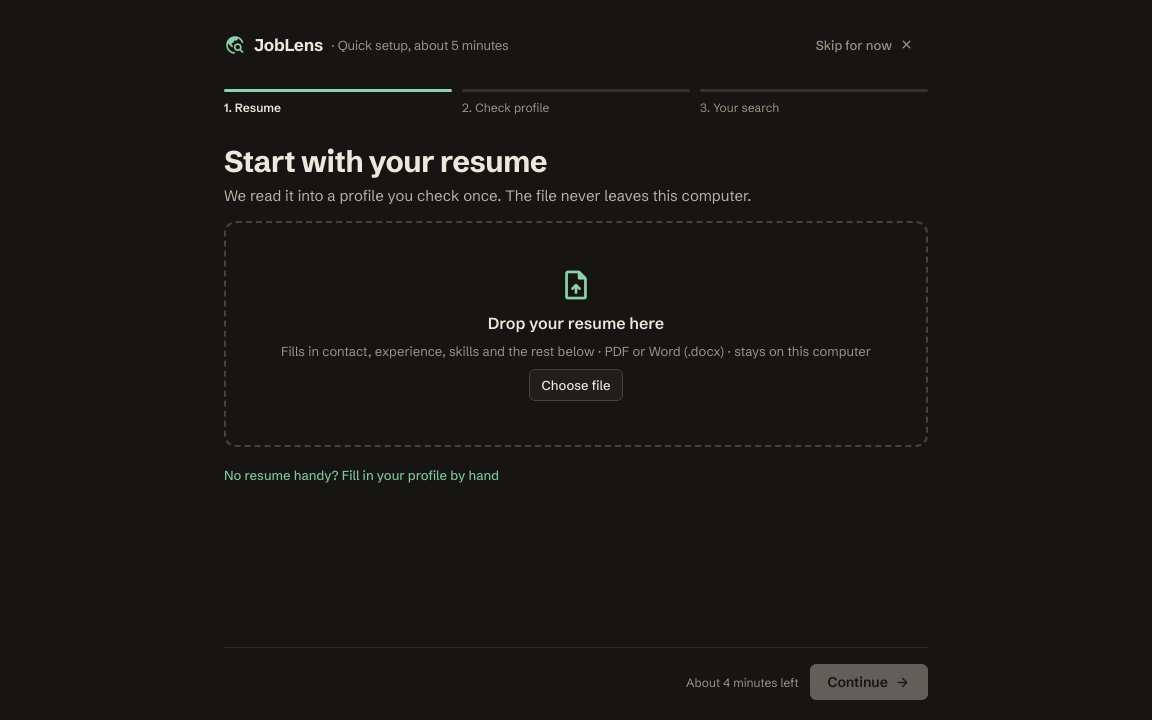
Test case: Quick setup › opens on first run and can be skipped
Expected: the heading "Start with your resume" is shown, [224,143,547,180]
Click the button "Skip for now".
click(865, 44)  # box [803,28,928,61]
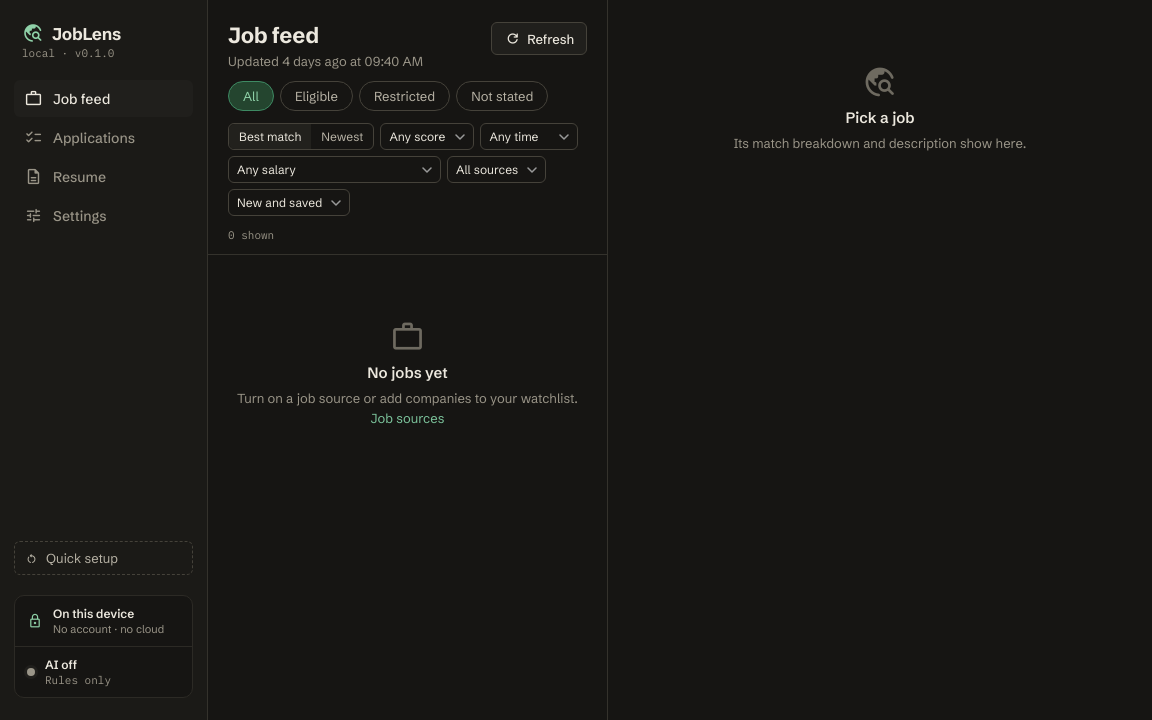
Expected: the heading "Job feed" is shown, [228,22,319,49]
